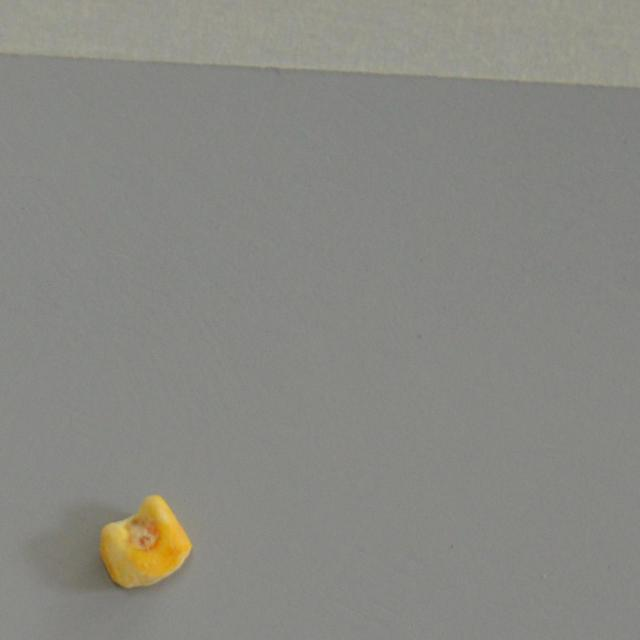dañado: (82, 483, 196, 591)
